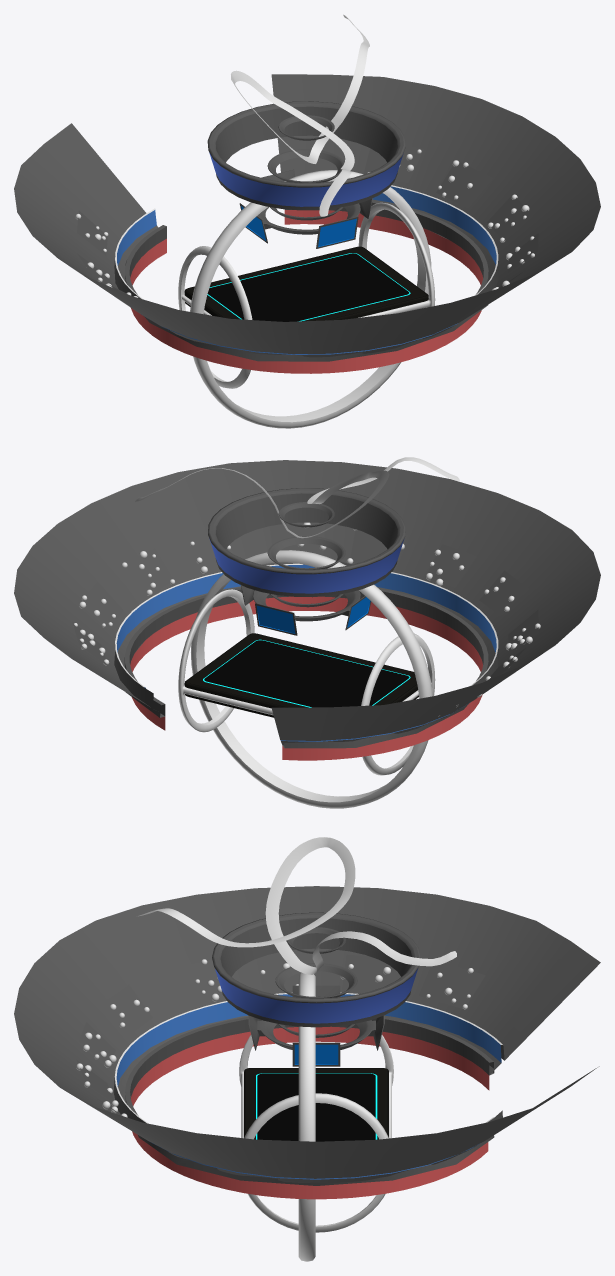
Rendered from Character.fbx.
3 views of the same model, one above another, from view 1: azimuth 30°, elevation 25°; view 2: azimuth 150°, elevation 25°; view 3: azimuth 270°, elevation 25° (orthographic). The views are drawn at different scales.
Parts seen in each view (by area): view 1: Plane, Circle, MapAndScreen.001, Circle.007, HumenPlate, MapAndScreen, Decoration2, Circle.008, Circle.003, Humen, Circle.004; view 2: Plane, Circle, HumenPlate, MapAndScreen.001, Circle.007, Circle.008, MapAndScreen, Circle.003, Decoration2, Humen, Circle.004, Circle.001; view 3: Plane, Circle, HumenPlate, MapAndScreen.001, Decoration2, Circle.008, Circle.007, Circle.003, MapAndScreen, Humen, Circle.004.
Boxes of the visible parts, x1,y1,x2,y2 form: Plane: (14,74,600,373); Circle: (207,101,405,210); MapAndScreen.001: (207,253,409,321); Circle.007: (190,170,431,428); HumenPlate: (77,145,538,293); MapAndScreen: (184,246,428,321); Decoration2: (231,14,369,216); Circle.008: (178,202,435,388); Circle.003: (239,169,372,248); Humen: (75,149,534,297); Circle.004: (267,149,344,182); Plane: (14,460,600,760); Circle: (208,488,405,597); HumenPlate: (72,523,538,679); MapAndScreen.001: (204,640,409,707); Circle.007: (191,550,432,808); Circle.008: (178,589,435,775); MapAndScreen: (184,633,418,717); Circle.003: (240,561,371,635); Decoration2: (135,457,459,538); Humen: (74,522,540,716); Circle.004: (267,536,345,569); Circle.001: (278,502,334,527); Plane: (14,886,600,1199); Circle: (212,912,420,1027); HumenPlate: (76,950,485,1115); MapAndScreen.001: (257,1073,375,1141); Decoration2: (138,837,456,974); Circle.008: (239,1035,393,1232); Circle.007: (298,973,315,1261); Circle.003: (248,985,384,1066); MapAndScreen: (244,1068,388,1139); Humen: (76,957,473,1117); Circle.004: (275,963,357,998).
Size of the model in its own units: 8496 by 8242 by 5819.
